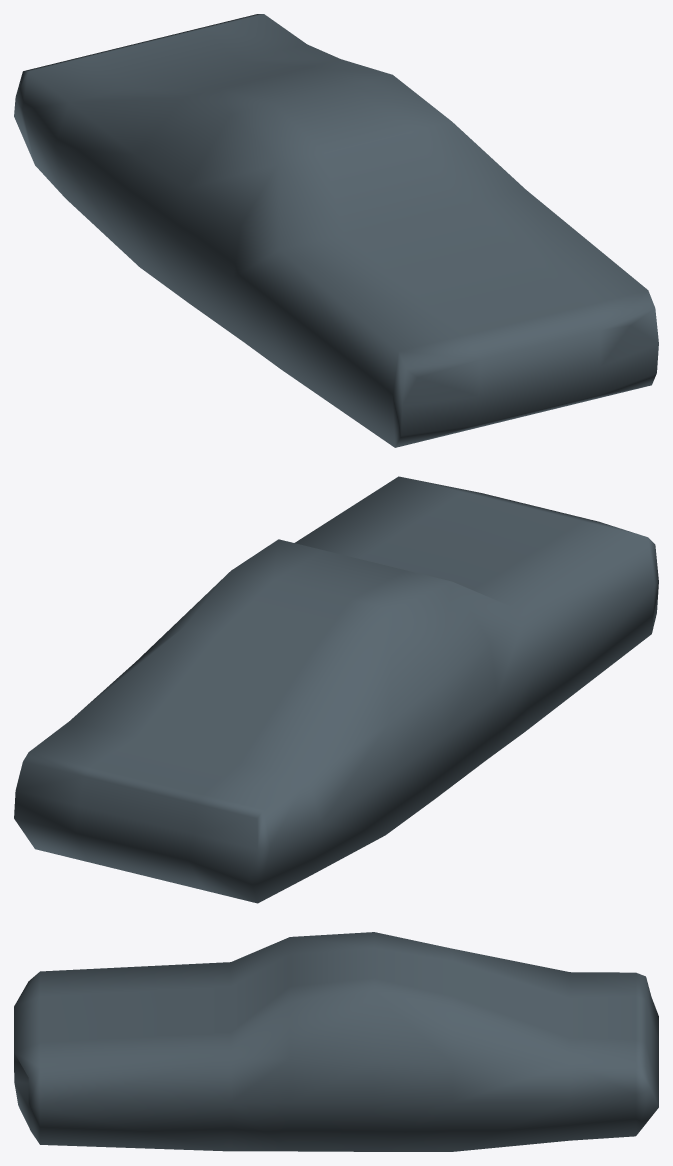
The model's file is mesh_CAR_02_collider.fbx.
The picture shows the model from 3 angles, top to bottom: view 1: azimuth 30°, elevation 25°; view 2: azimuth 150°, elevation 25°; view 3: azimuth 270°, elevation 25°; orthographic projection. The views are drawn at different scales.
Visible parts, largest first — view 1: mesh_CAR_02_collider; view 2: mesh_CAR_02_collider; view 3: mesh_CAR_02_collider.
Boxes of the visible parts, x1,y1,x2,y2 form: mesh_CAR_02_collider: (14, 14, 658, 447); mesh_CAR_02_collider: (14, 476, 658, 903); mesh_CAR_02_collider: (14, 932, 658, 1151).
Size of the model in its own units: 171 by 109 by 452.
